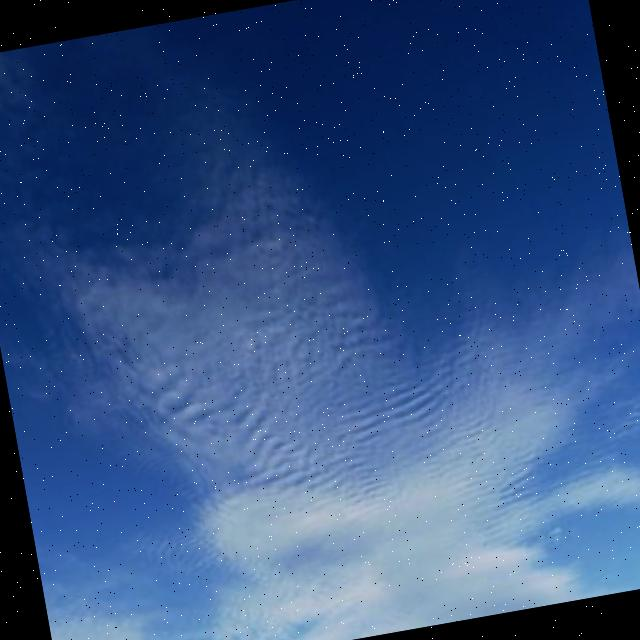Cc: (13, 83, 592, 640)
